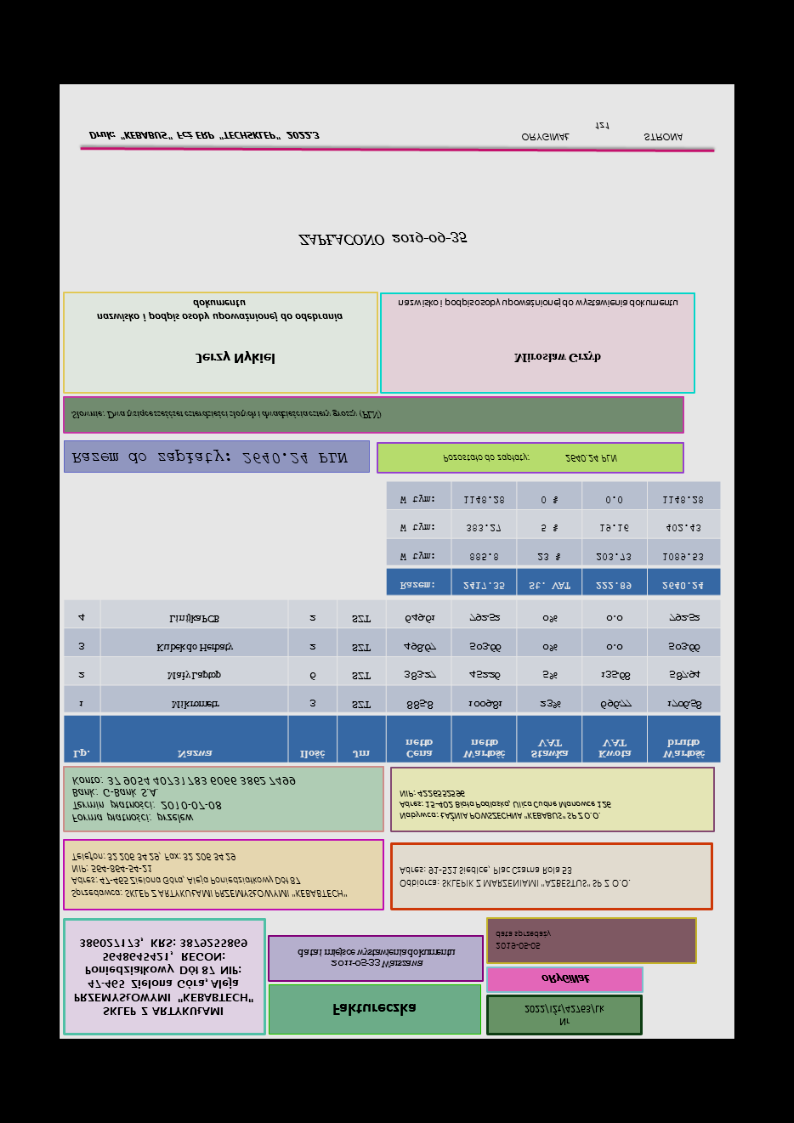Table: (61, 600, 723, 764), (385, 481, 722, 597)
TextBox: (71, 937, 256, 1019), (68, 849, 348, 900), (68, 774, 297, 825), (396, 788, 612, 823), (397, 865, 632, 891), (70, 450, 349, 467), (69, 406, 383, 421), (295, 946, 458, 972), (519, 121, 685, 143), (88, 129, 320, 143), (295, 230, 468, 248), (440, 451, 618, 465), (523, 1002, 607, 1029), (493, 927, 554, 952), (329, 1001, 417, 1018), (192, 349, 277, 366), (513, 350, 602, 365), (538, 972, 593, 987)
